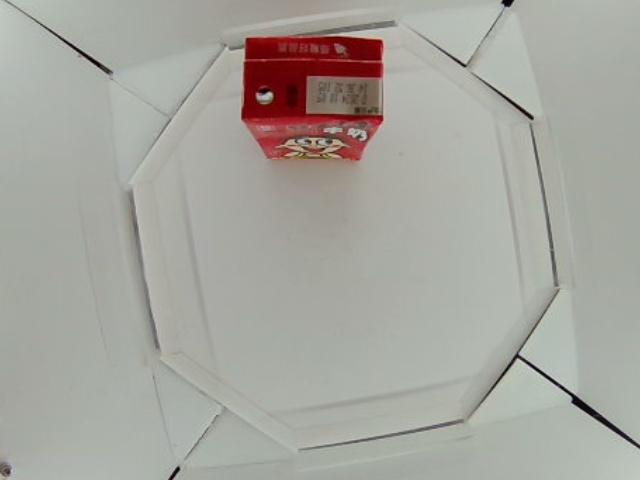Bottle: (244, 34, 386, 162)
